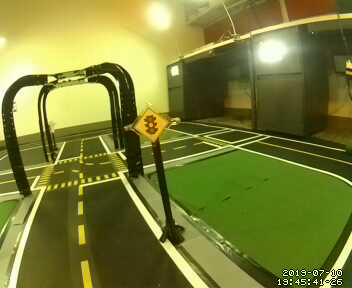Traffic light sign: (132, 105, 169, 141)
